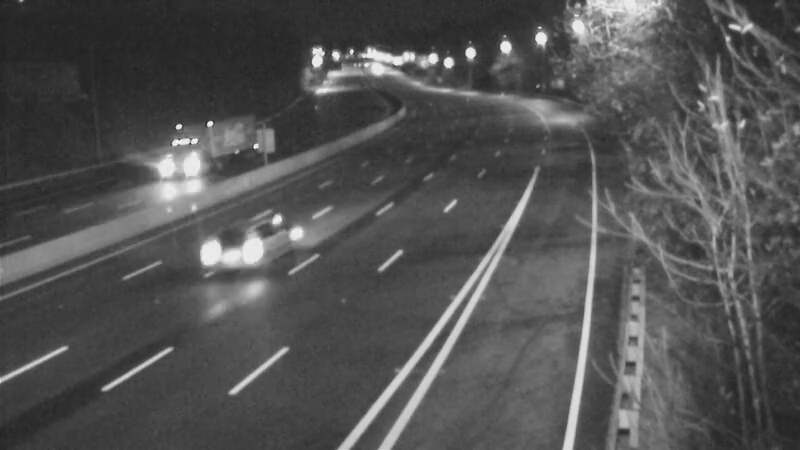vehicle: (202, 204, 282, 284), (155, 111, 235, 191)
